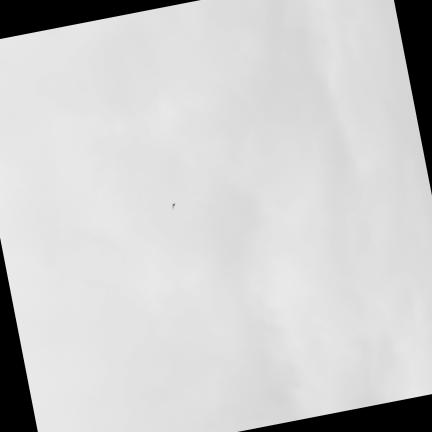Shahed: (172, 201, 175, 210)
